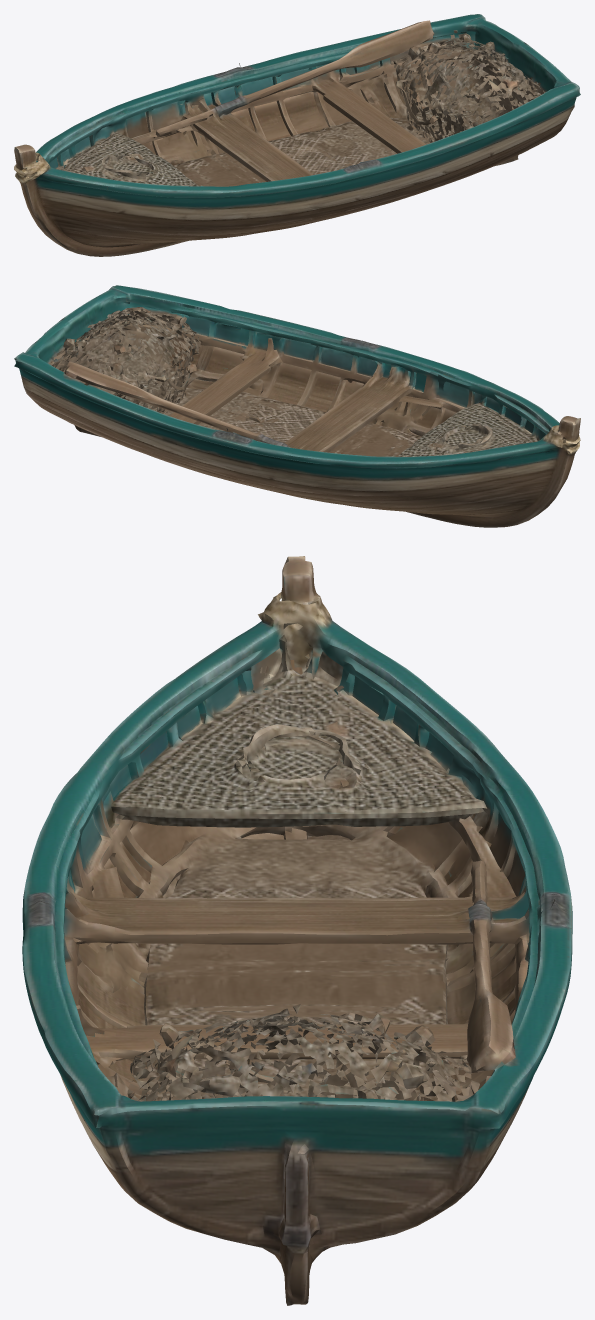
File: tidewake_rowboat.glb
3 views of the same model, one above another, from view 1: azimuth 30°, elevation 25°; view 2: azimuth 150°, elevation 25°; view 3: azimuth 270°, elevation 25° (orthographic). The views are drawn at different scales.
Visible parts, largest first — view 1: Mesh_0; view 2: Mesh_0; view 3: Mesh_0.
Boxes of the visible parts, box(x1,y1,x2,y2) form: Mesh_0: box(14, 14, 580, 256); Mesh_0: box(14, 285, 580, 527); Mesh_0: box(22, 556, 572, 1305).
Bounding box in the file's own units: 1.89 × 0.4656 × 0.8744.
1 material, 1 textured.
